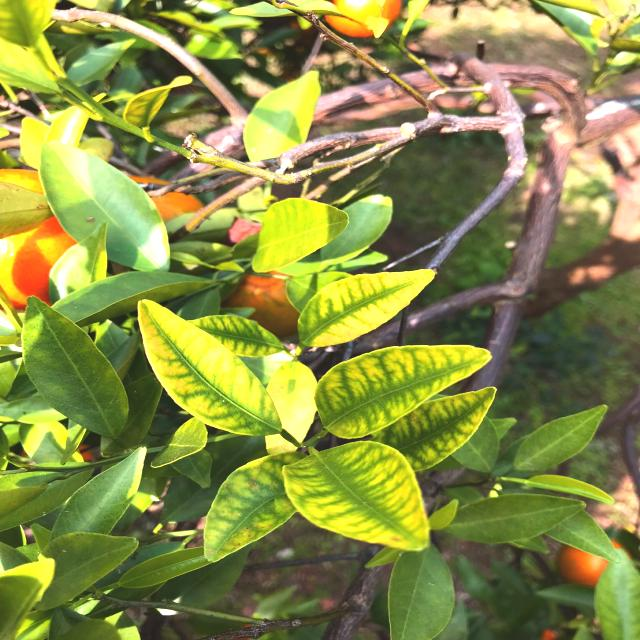greening: (143, 305, 273, 444), (293, 443, 428, 550), (319, 341, 482, 421), (296, 272, 434, 342), (200, 457, 288, 558)
